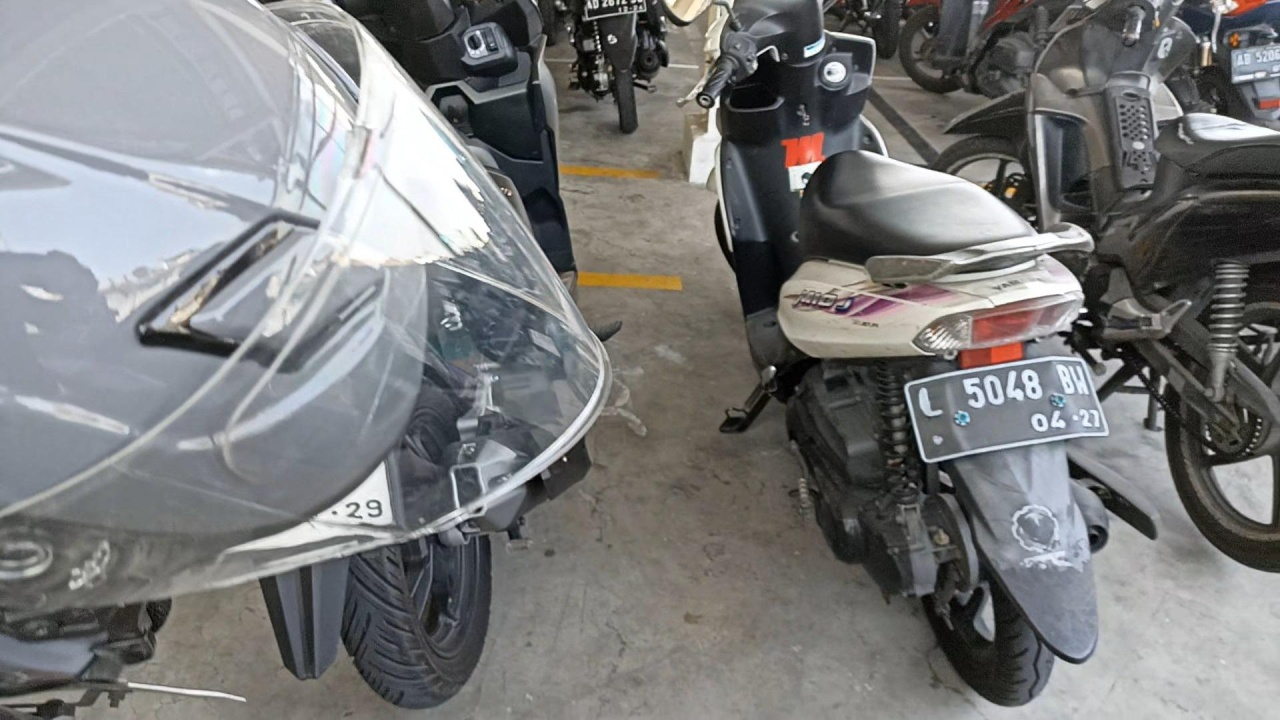plate: (905, 357, 1111, 462)
